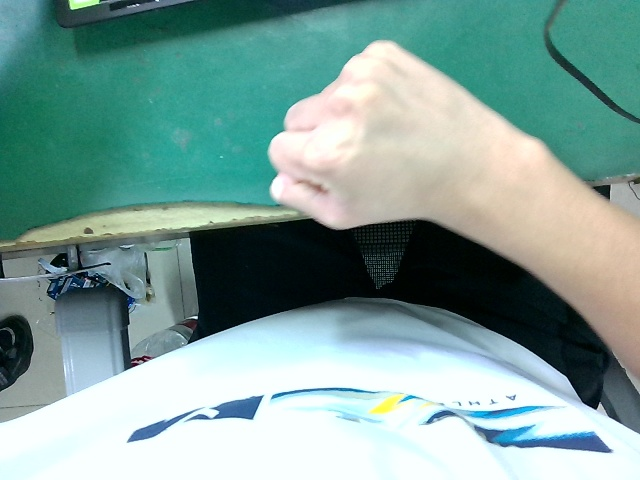stone: (266, 23, 548, 259)
